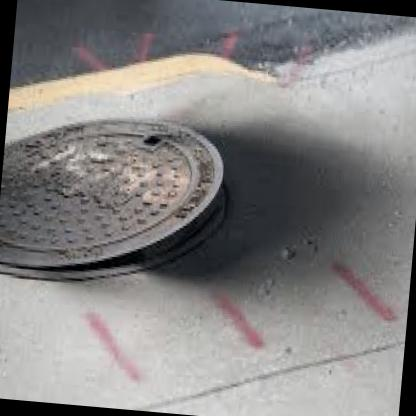manholes: (0, 93, 258, 310)
